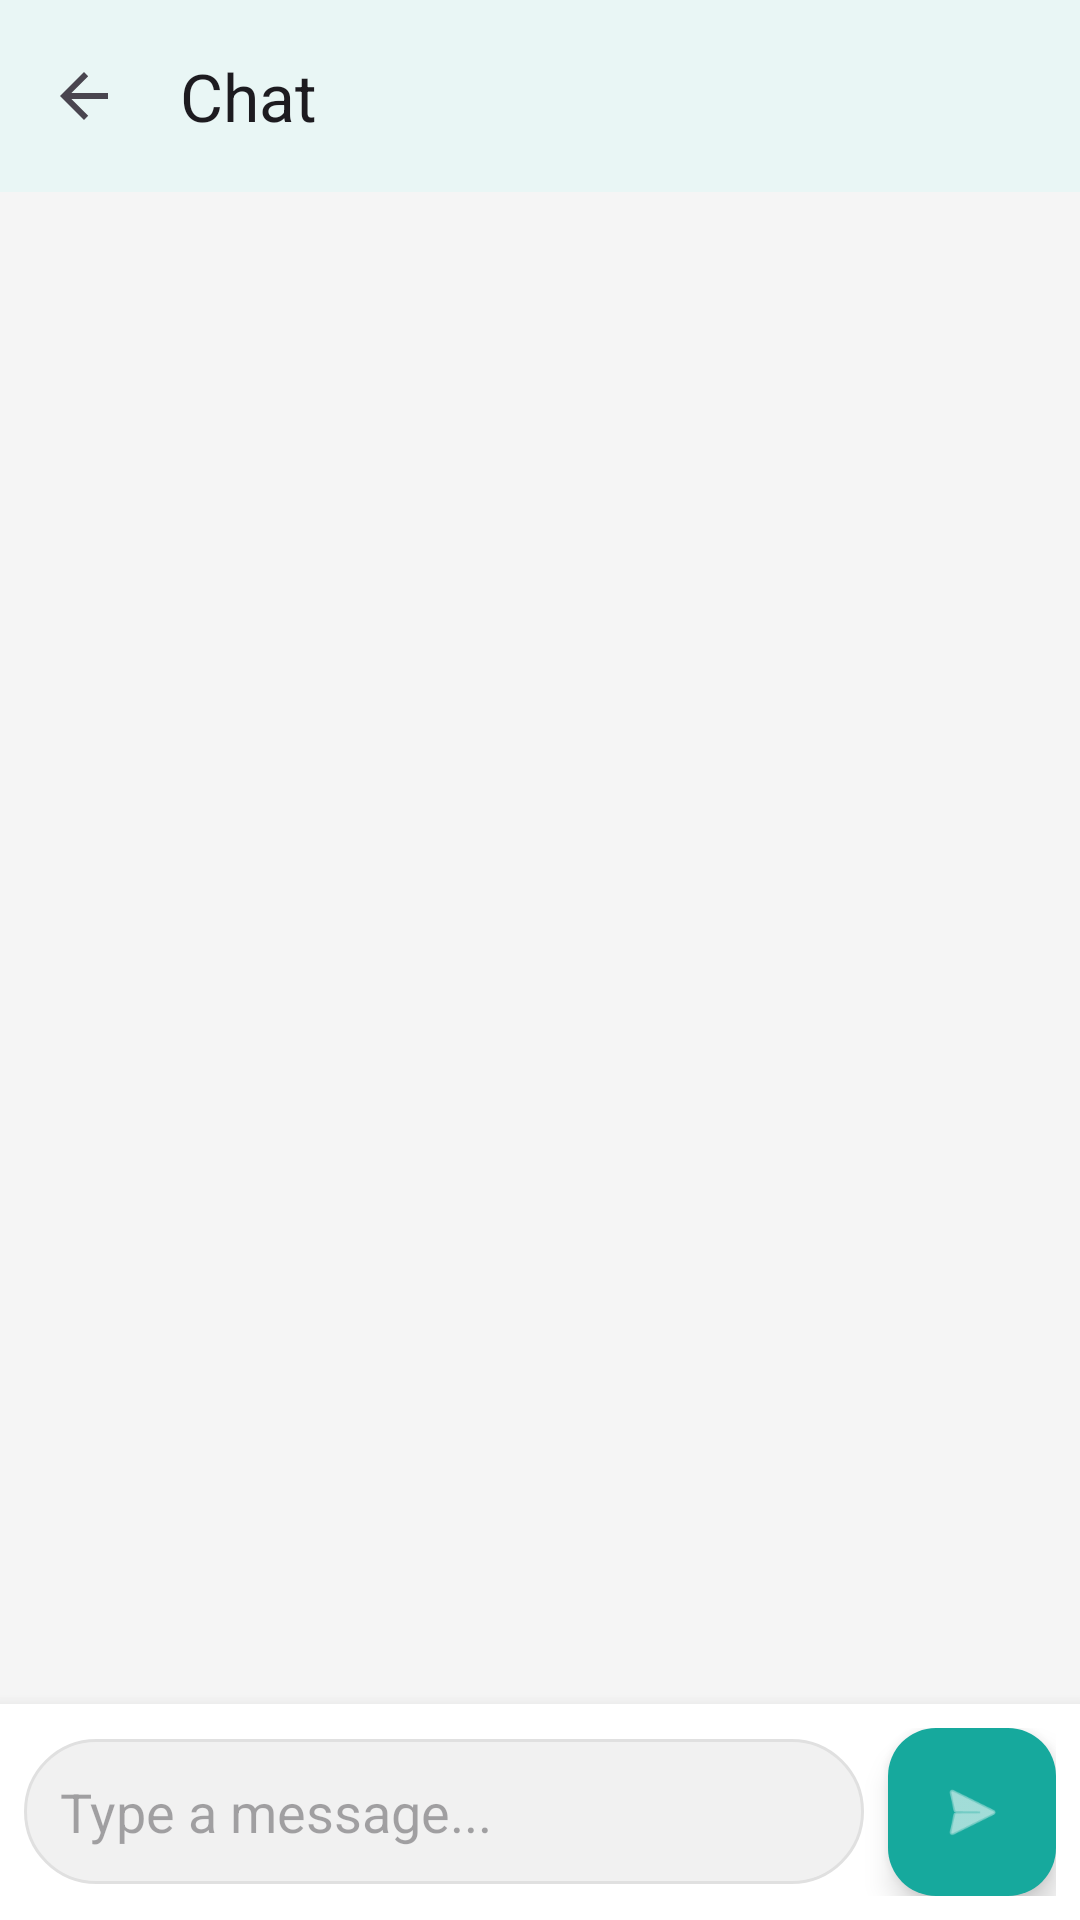

Icon bounding boxes for this 1080×1920 phone screenshot, format (x1, y1, x2, y2):
Send: (888, 1728, 1056, 1896)
